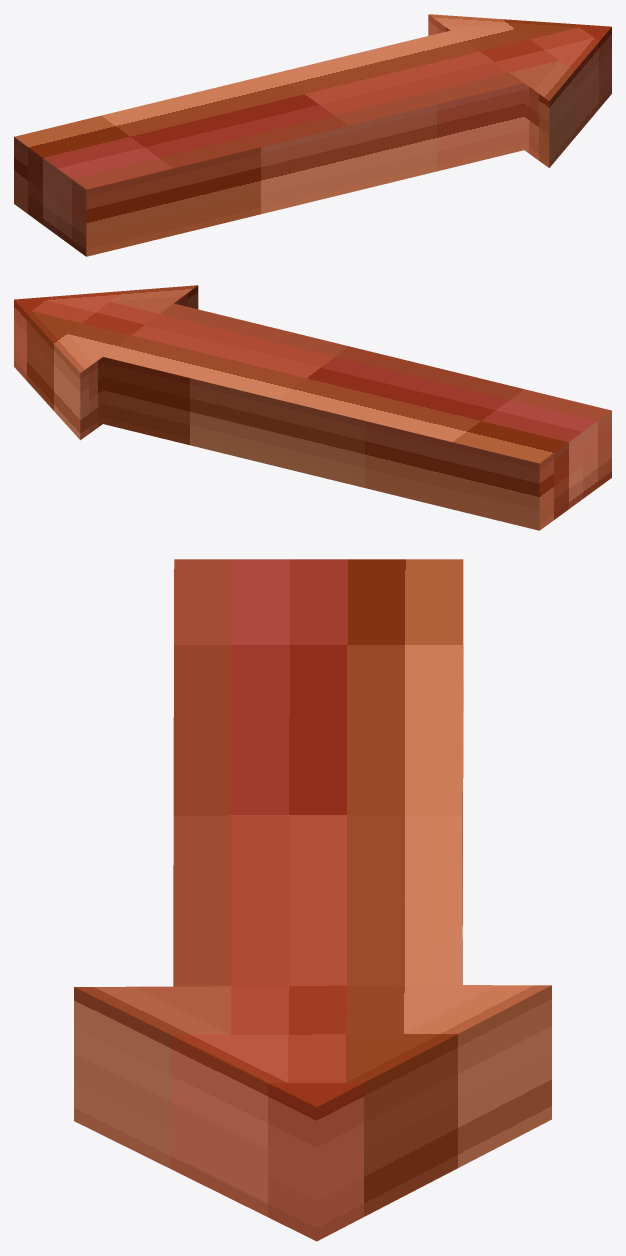
Rendered from arrow3.glb.
The picture shows the model from 3 angles, top to bottom: view 1: azimuth 30°, elevation 25°; view 2: azimuth 150°, elevation 25°; view 3: azimuth 270°, elevation 25°; orthographic projection. The views are drawn at different scales.
Parts seen in each view (by area): view 1: Cube; view 2: Cube; view 3: Cube.
Part boxes in pixels (x1,y1,x2,y2): Cube: (14,14,611,256); Cube: (14,285,611,530); Cube: (74,559,551,1241).
Bounding box in the file's own units: 0.9786 × 0.1118 × 0.3607.
1 material, 1 textured.
